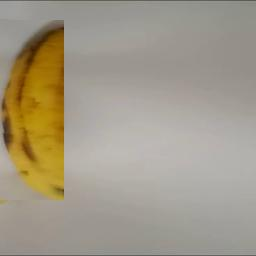Banana Semifresh: (0, 20, 64, 200)
